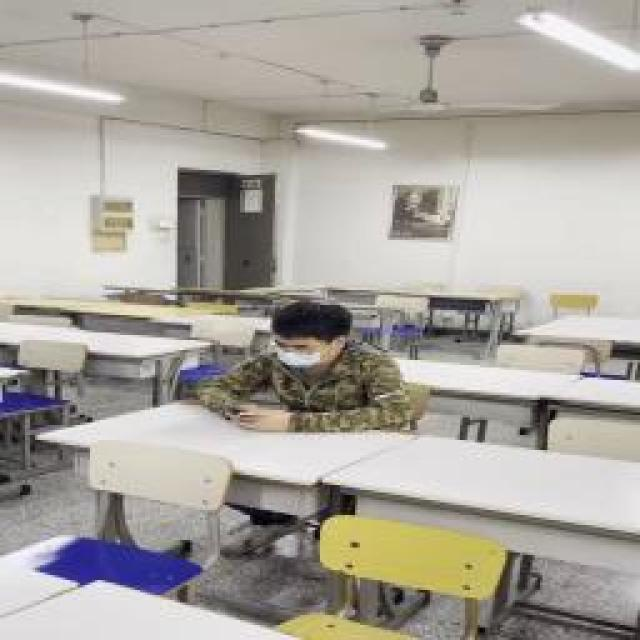phone: (200, 302, 412, 430)
